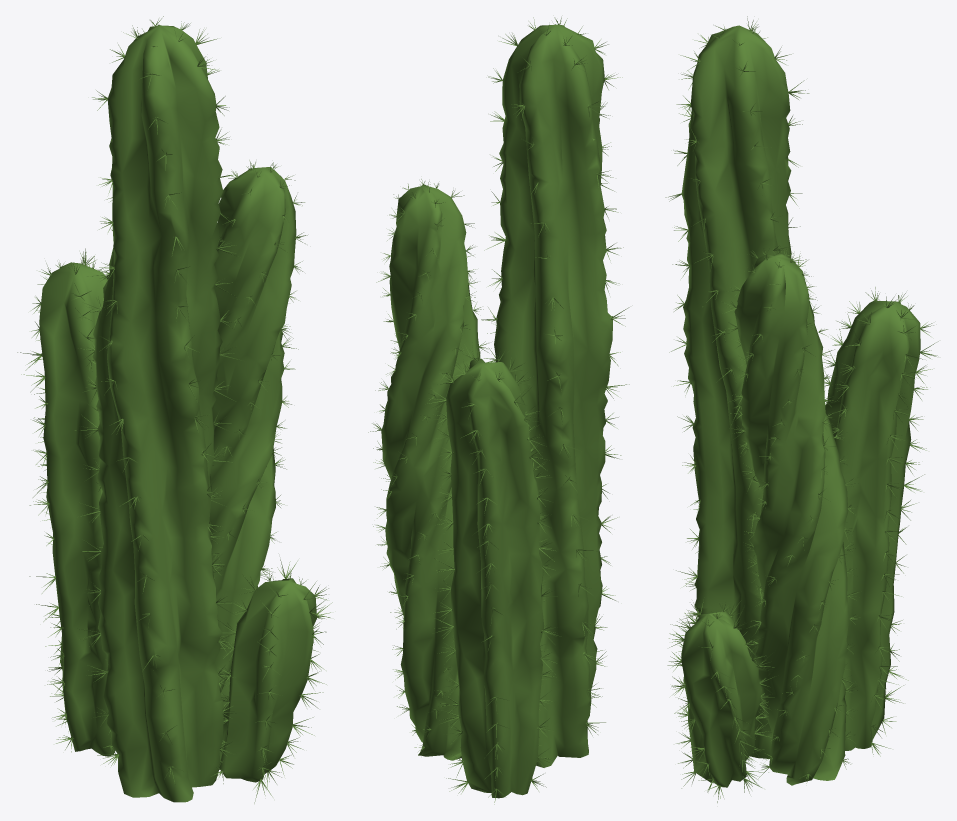
File: cactus.glb
The picture shows the model from 3 angles, left to right: view 1: azimuth 30°, elevation 25°; view 2: azimuth 150°, elevation 25°; view 3: azimuth 270°, elevation 25°; orthographic projection. The views are drawn at different scales.
Parts seen in each view (by area): view 1: Pot Cactus; view 2: Pot Cactus; view 3: Pot Cactus.
Boxes of the visible parts, x1=… form: Pot Cactus: x1=17, y1=16, x2=332, y2=803; Pot Cactus: x1=368, y1=17, x2=629, y2=804; Pot Cactus: x1=665, y1=16, x2=938, y2=802.
Size of the model in its own units: 1.59 by 5.08 by 1.75.
